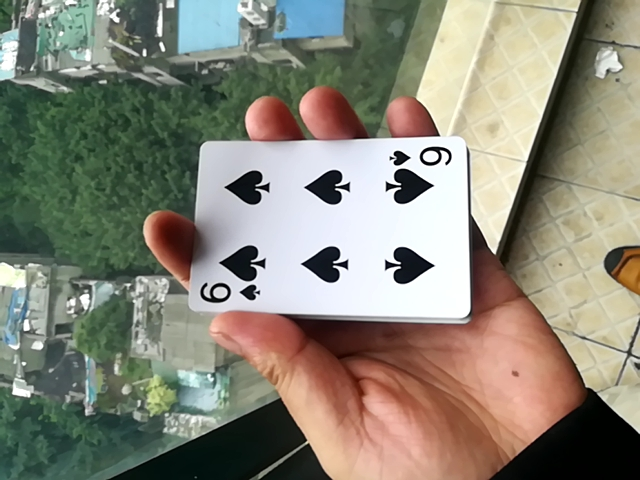ht 6: (164, 129, 463, 334)
